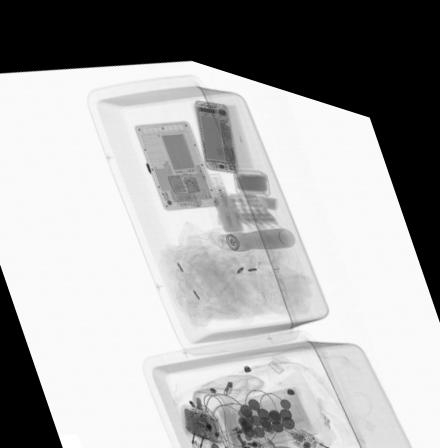Lighter: (206, 408, 245, 433)
